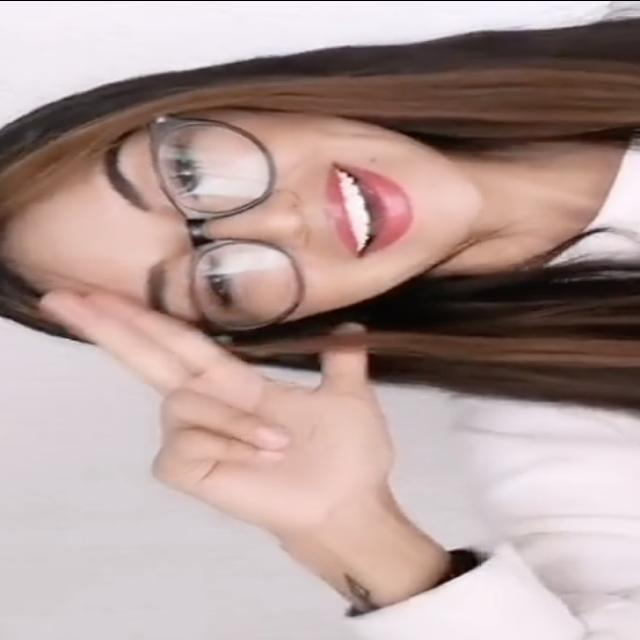hola: (42, 285, 400, 538)
